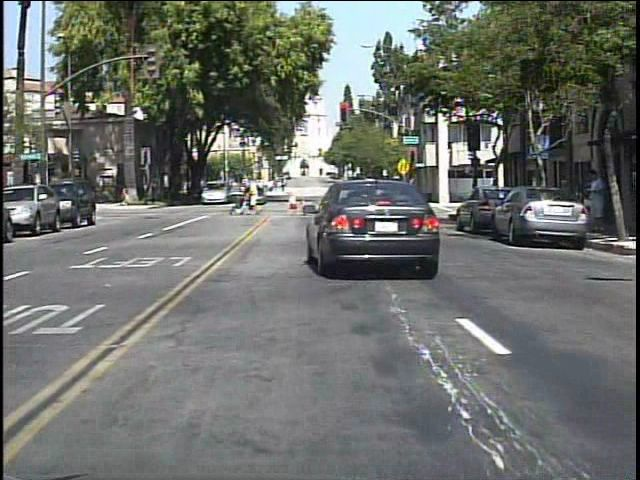person: (587, 164, 608, 236), (246, 176, 267, 216), (122, 183, 136, 209), (155, 179, 156, 207)
